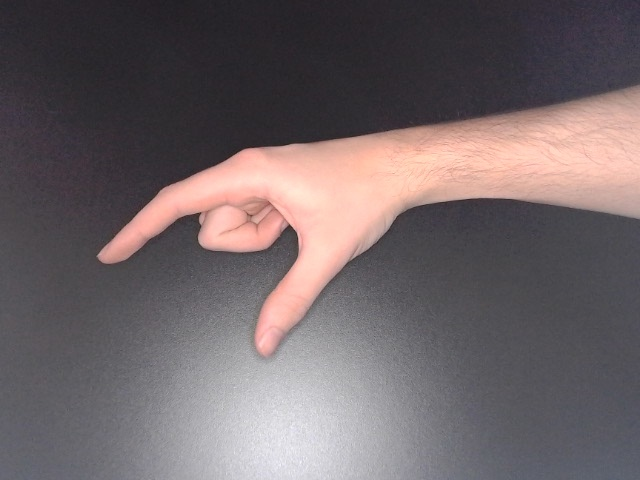q: (91, 125, 460, 365)
